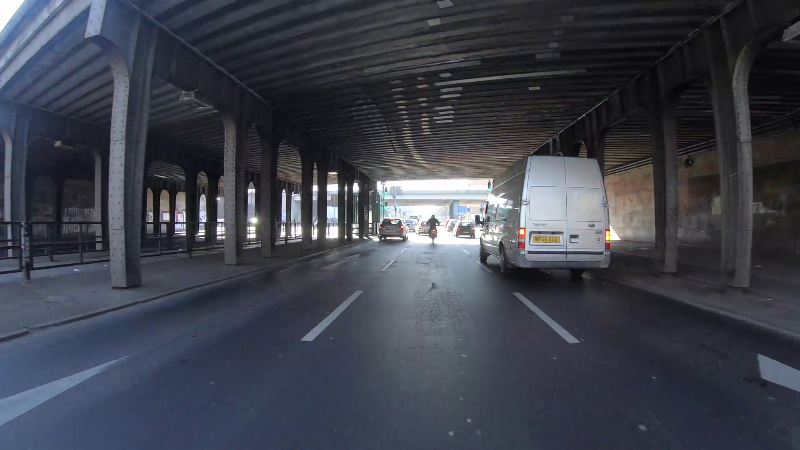Plate: (531, 235, 562, 243)
